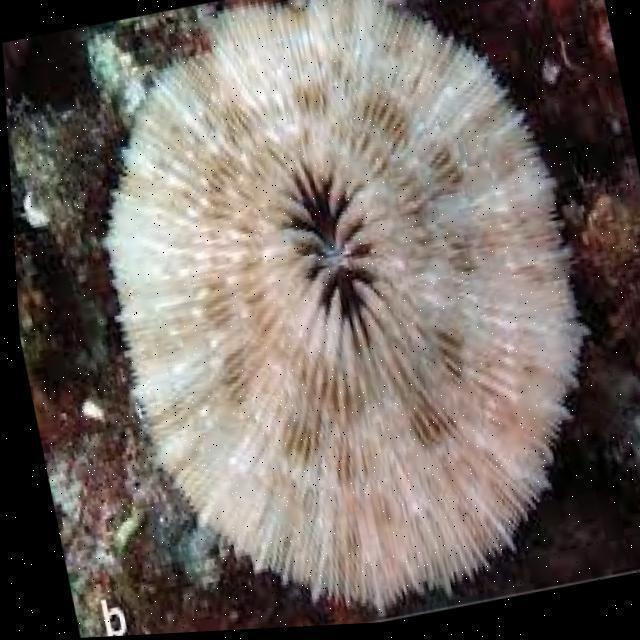Healthy Coral: (55, 0, 630, 638)
